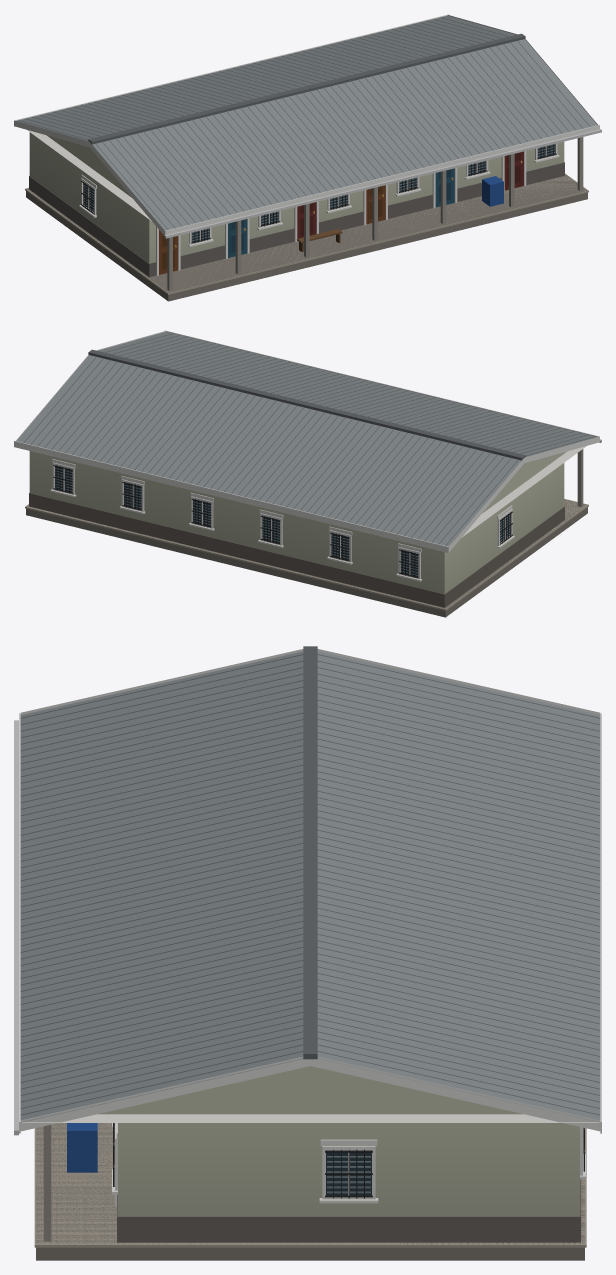
The model's file is ns_faceme.glb.
3 views of the same model, one above another, from view 1: azimuth 30°, elevation 25°; view 2: azimuth 150°, elevation 25°; view 3: azimuth 270°, elevation 25° (orthographic). The views are drawn at different scales.
Parts seen in each view (by area): view 1: ns_faceme; view 2: ns_faceme; view 3: ns_faceme.
Part boxes in pixels (x1=…): ns_faceme: x1=14, y1=14, x2=601, y2=301; ns_faceme: x1=14, y1=330, x2=601, y2=617; ns_faceme: x1=14, y1=646, x2=601, y2=1260.
Size of the model in its own units: 18.92 by 4.58 by 11.46.
